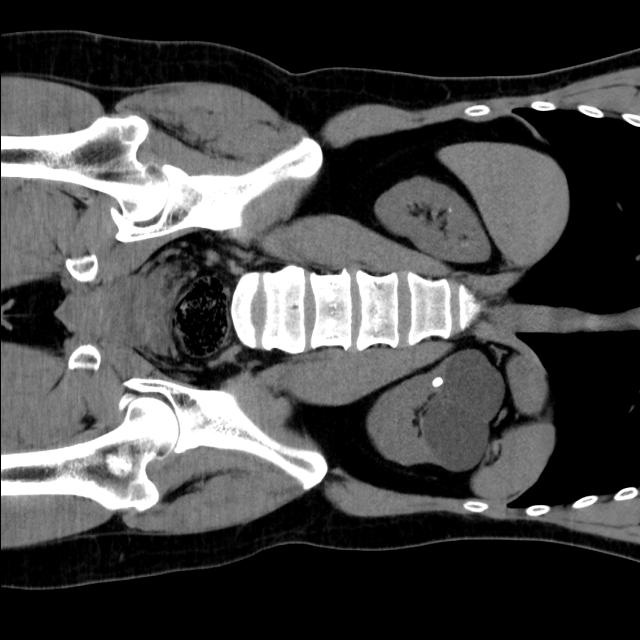kidneystone: (431, 376, 442, 388)
